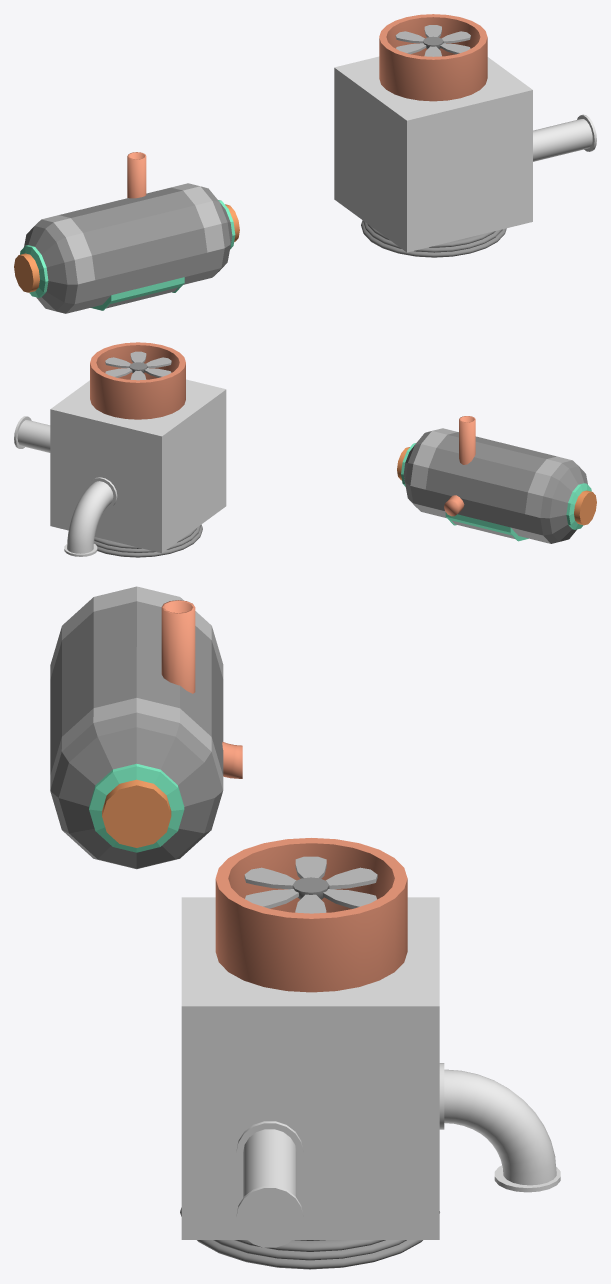
The model's file is bottles.FBX.
3 renders of one model, top to bottom at view 1: azimuth 30°, elevation 25°; view 2: azimuth 150°, elevation 25°; view 3: azimuth 270°, elevation 25°, orthographic. The views are drawn at different scales.
Parts seen in each view (by area): view 1: Box001, Cylinder007, Torus006, Cylinder005, Box007, Cylinder009, Torus005, Torus004, Torus003; view 2: Box001, Cylinder007, Torus006, Cylinder002, Cylinder009, Box007, Cylinder005, Torus005, Torus004; view 3: Box001, Cylinder007, Torus006, Cylinder002, Box007, Cylinder009, Cylinder008, Cylinder005, Torus005, Torus004, Torus003, Cylinder004.
Boxes of the visible parts, left/top/right/bottom form: Box001: left=334, top=56, right=532, bottom=252; Cylinder007: left=14, top=183, right=239, bottom=313; Torus006: left=379, top=14, right=487, bottom=101; Cylinder005: left=533, top=119, right=592, bottom=161; Box007: left=395, top=25, right=470, bottom=56; Cylinder009: left=127, top=152, right=146, bottom=198; Torus005: left=361, top=220, right=506, bottom=257; Torus004: left=363, top=221, right=502, bottom=252; Torus003: left=367, top=224, right=495, bottom=247; Box001: left=50, top=379, right=226, bottom=553; Cylinder007: left=397, top=428, right=596, bottom=543; Torus006: left=90, top=342, right=185, bottom=419; Cylinder002: left=67, top=481, right=113, bottom=553; Cylinder009: left=444, top=416, right=475, bottom=516; Box007: left=105, top=351, right=171, bottom=380; Cylinder005: left=17, top=420, right=50, bottom=452; Torus005: left=97, top=524, right=202, bottom=557; Torus004: left=94, top=525, right=200, bottom=552; Box001: left=181, top=897, right=439, bottom=1239; Cylinder007: left=50, top=586, right=223, bottom=869; Torus006: left=215, top=838, right=407, bottom=992; Cylinder002: left=444, top=1069, right=556, bottom=1185; Box007: left=244, top=856, right=377, bottom=913; Cylinder009: left=161, top=600, right=242, bottom=778; Cylinder008: left=236, top=1186, right=303, bottom=1247; Cylinder005: left=243, top=1129, right=296, bottom=1197; Torus005: left=180, top=1207, right=439, bottom=1269; Torus004: left=213, top=1240, right=406, bottom=1260; Torus003: left=234, top=1240, right=385, bottom=1251; Cylinder004: left=236, top=1121, right=303, bottom=1170.
Size of the model in its own units: 365 by 111 by 152.
1 material, 1 textured.
